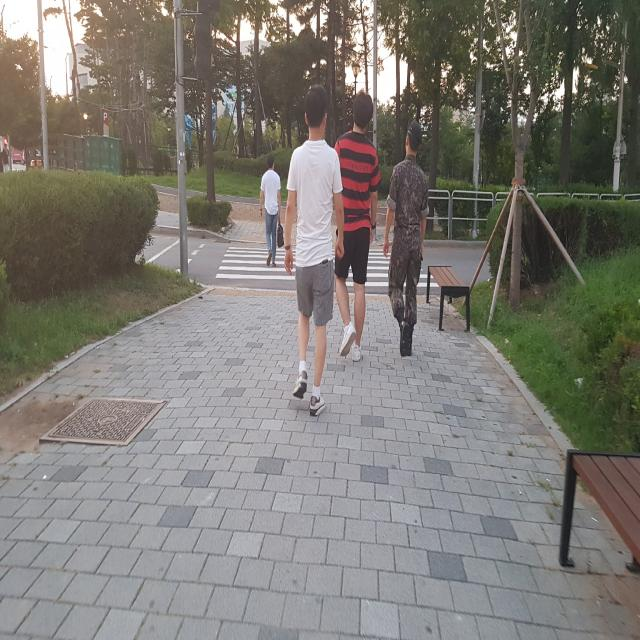횡단보도: (215, 246, 440, 288)
